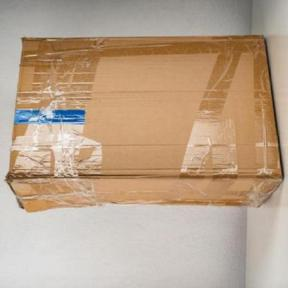box: (4, 30, 288, 222)
